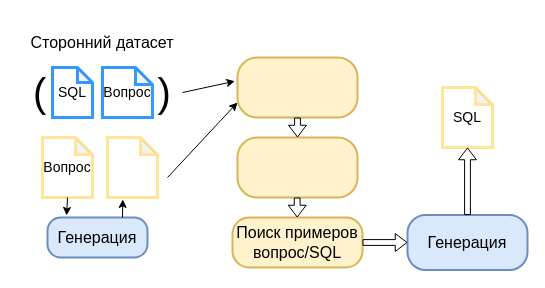
This 545x288 diagram has some shape labels left out. Each missing label, with the centre of its shape:
Маскирование терминов: pixel 297 87
Пробный SQL: pixel 132 167
Эмбеддинги: pixel 297 167
